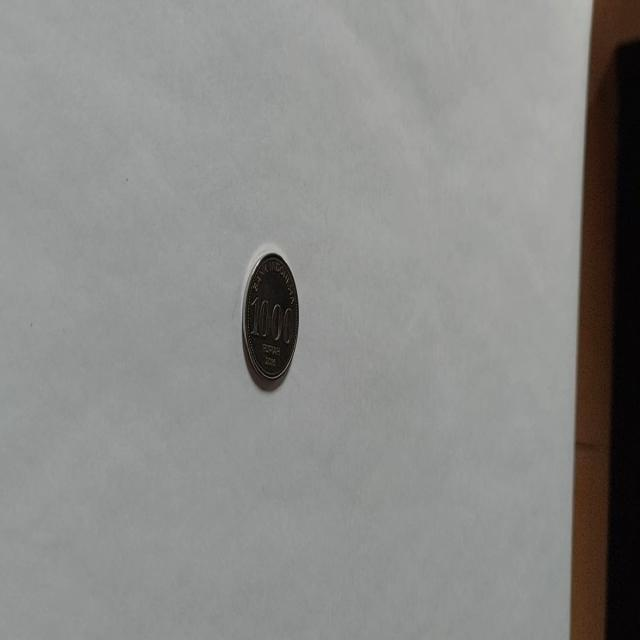seribu rupiah koin: (240, 248, 300, 391)
